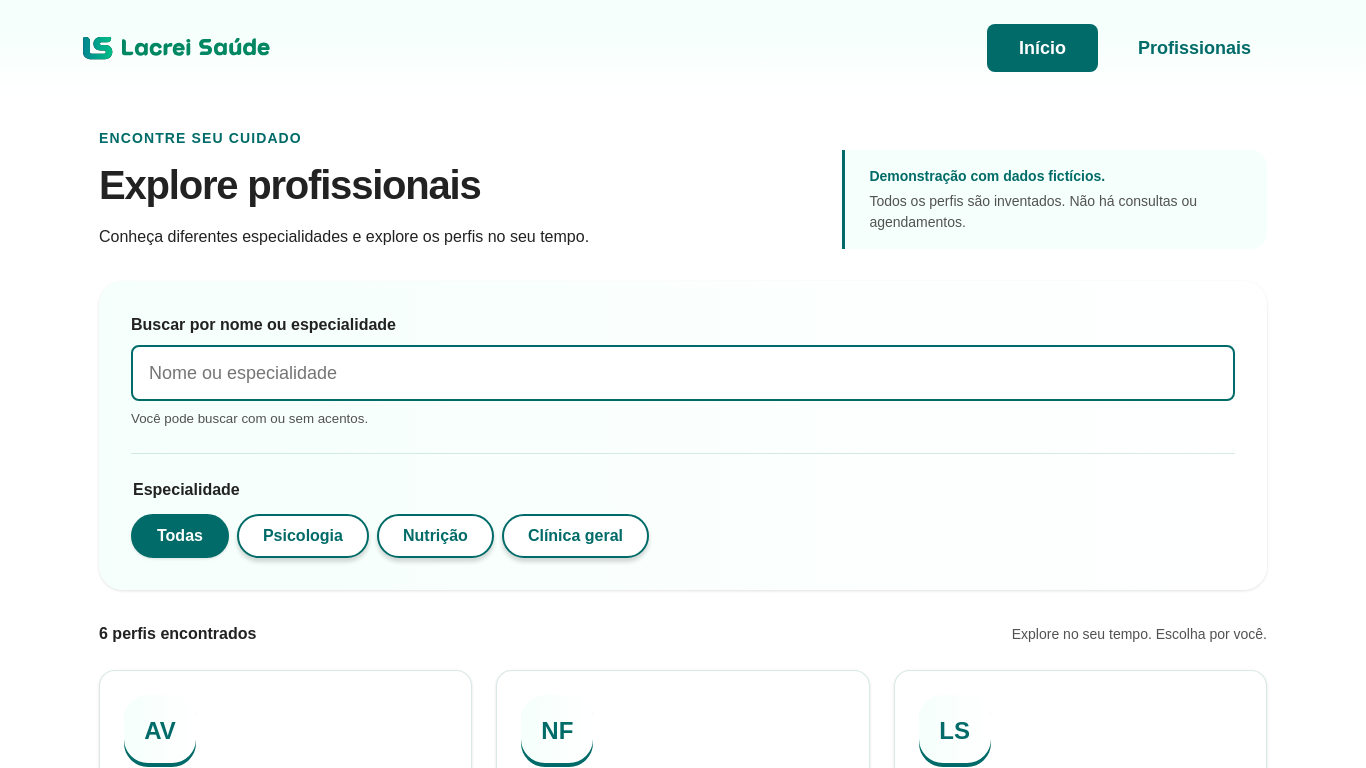
Test: Páginas e exploração › busca por nome sem acentos e combina busca com especialidade
Type "iris" into the search field at (683, 373), box 131,345 -> 1235,401
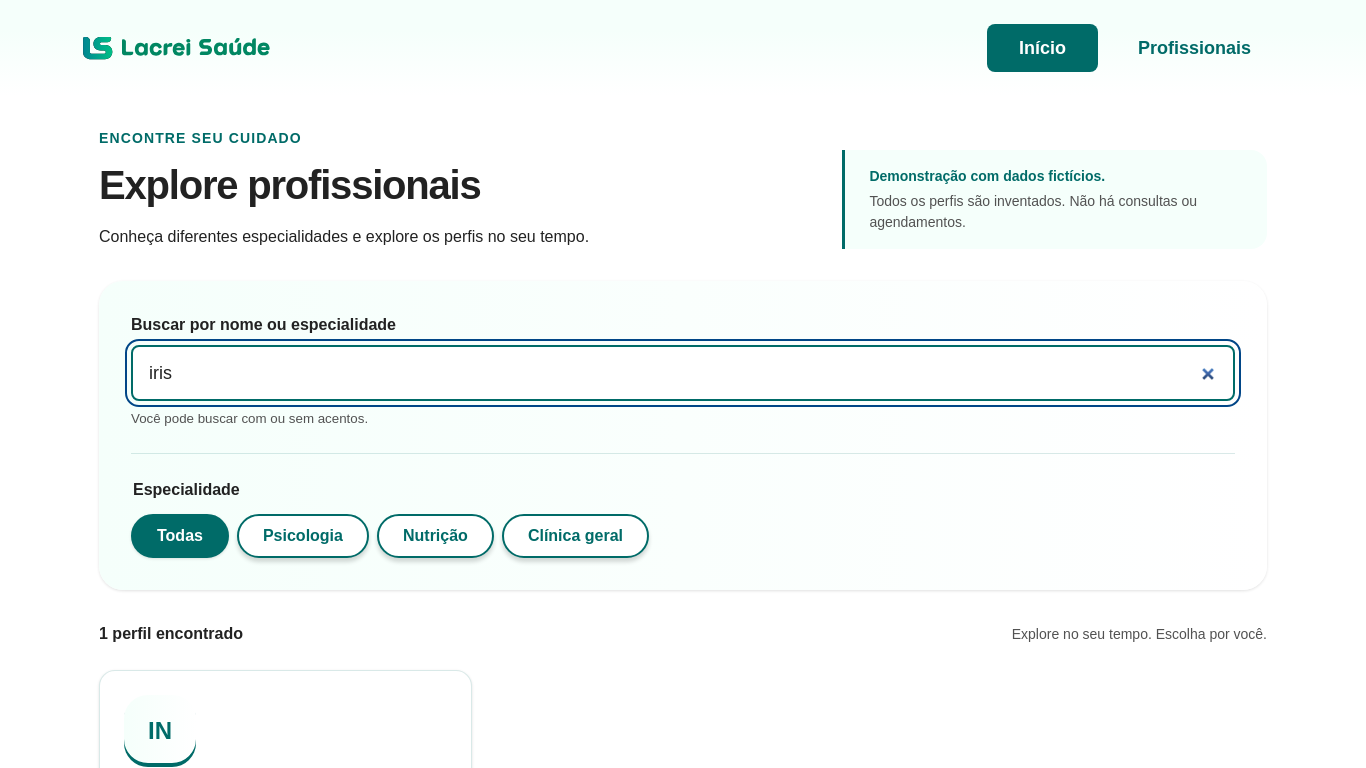
Click the button "Psicologia" at (303, 536), box 237,514 -> 369,558
(page scrolled)
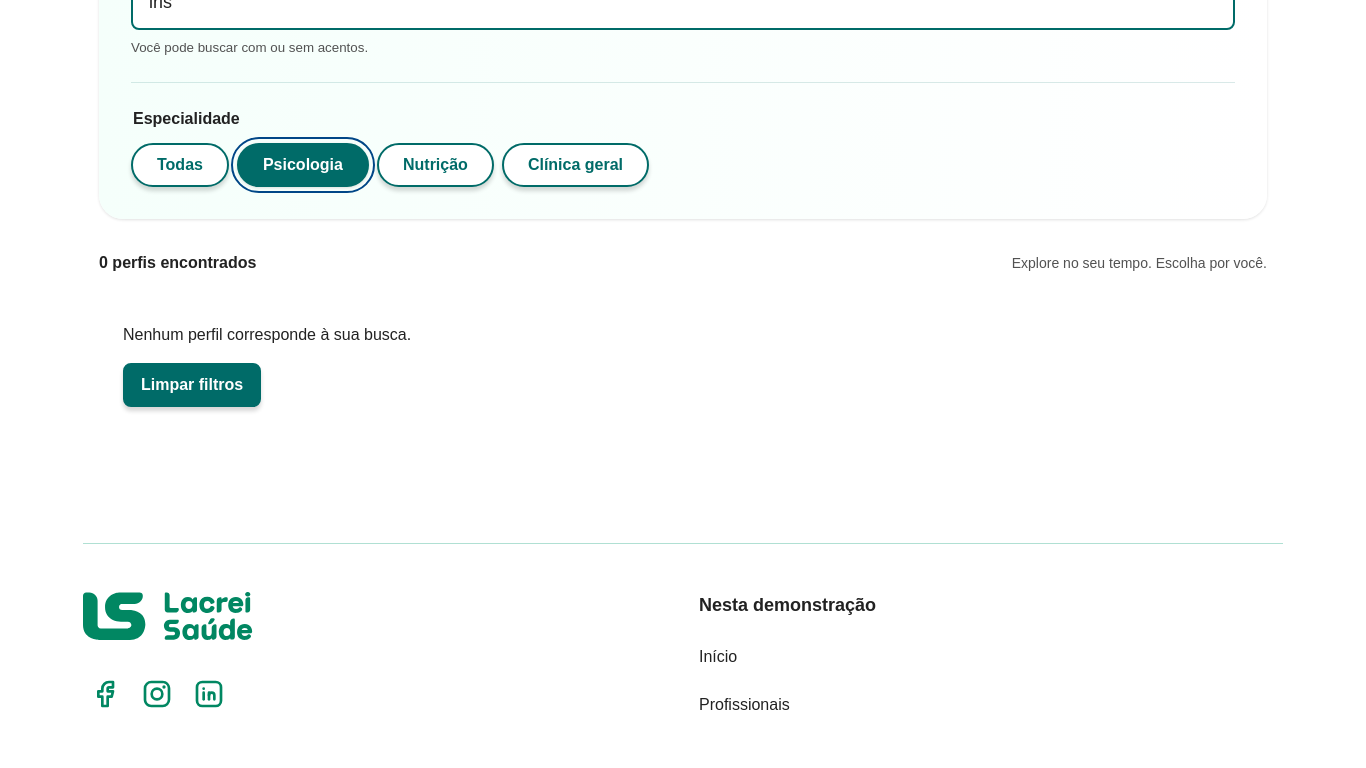
Click the button "Limpar filtros" at (192, 385), box 123,363 -> 261,407
(page scrolled)
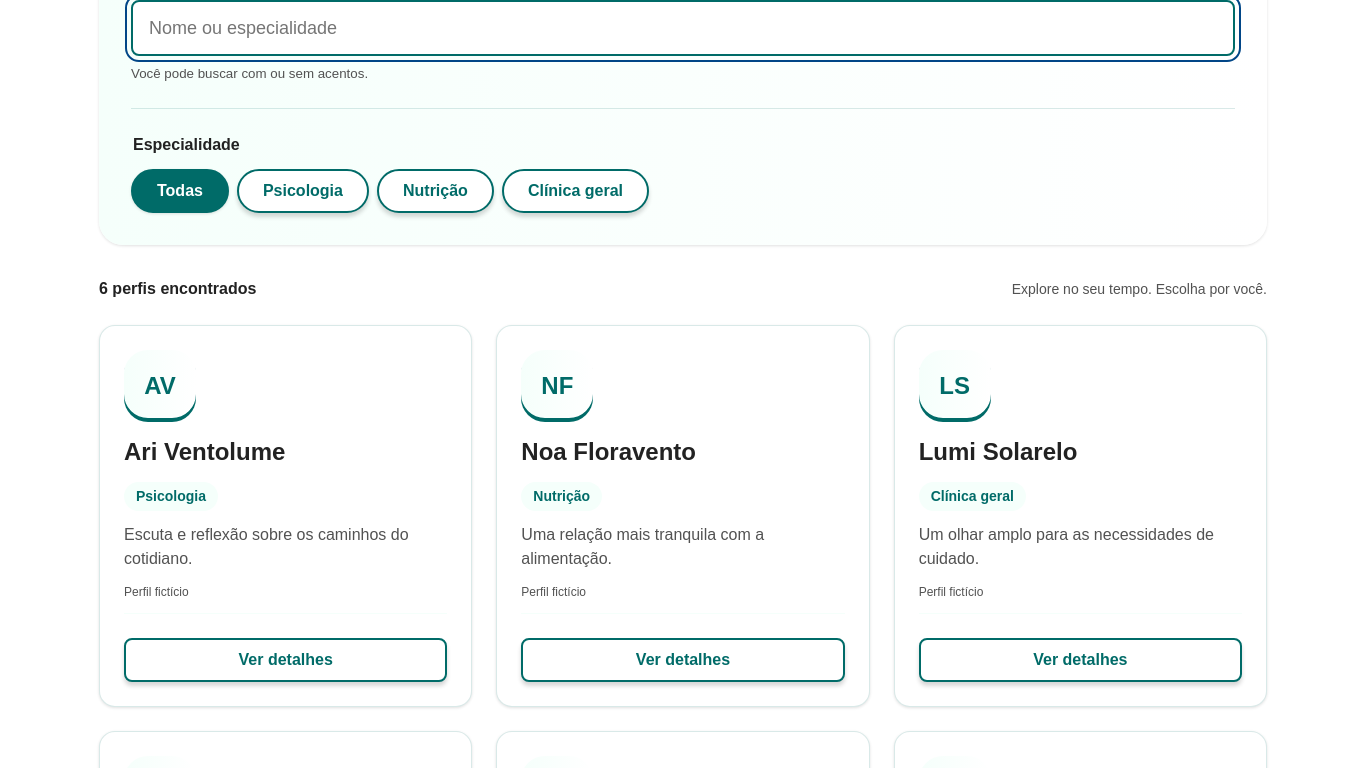
Result: the search field is empty at 131,0 -> 1235,56
